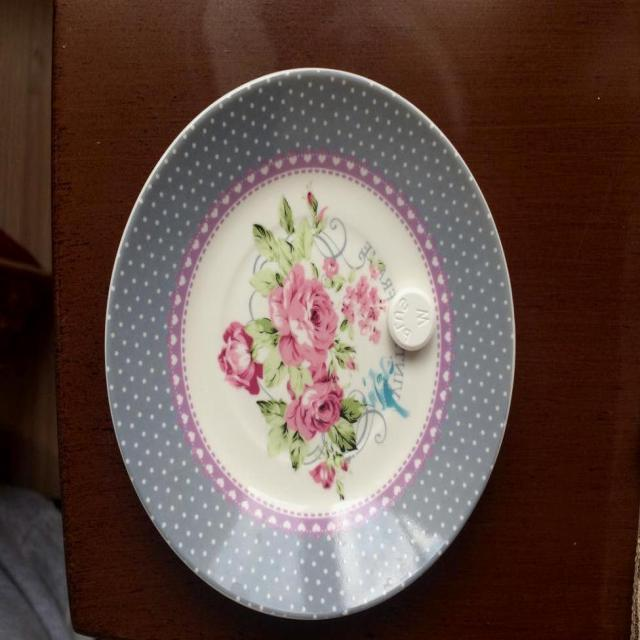pill: (382, 286, 446, 354)
